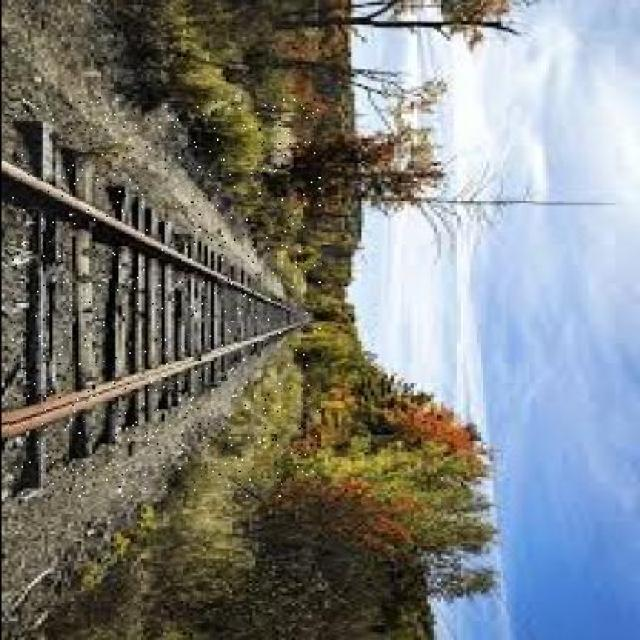rail: (8, 95, 319, 495)
